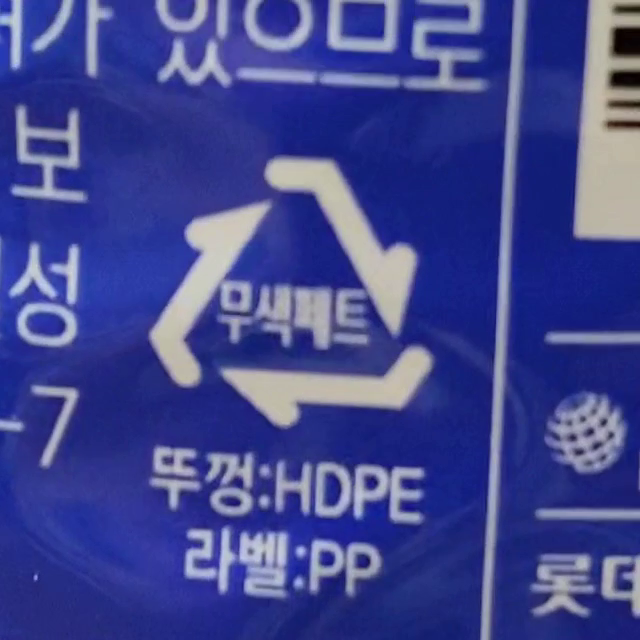ColorlessPet: (146, 157, 442, 432)
